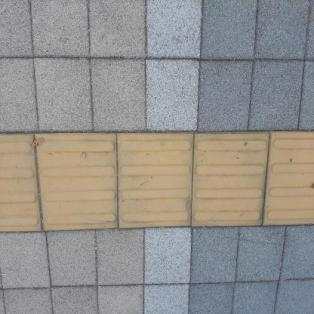Podoctatil: (0, 123, 313, 236)
